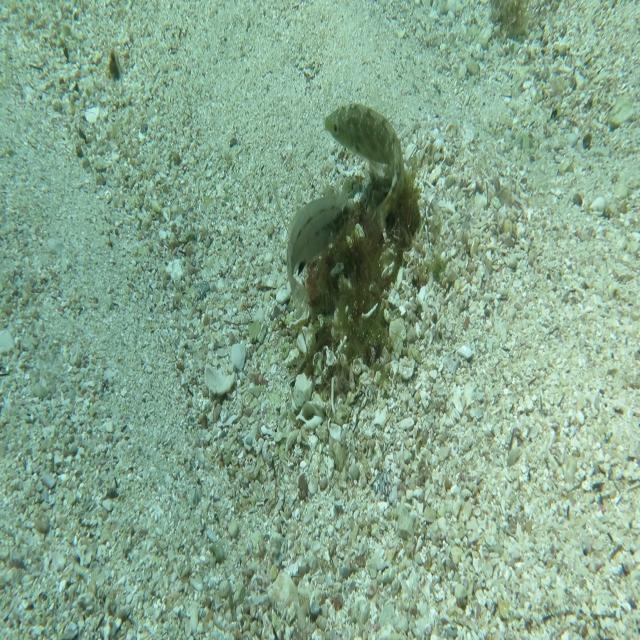SPA: (321, 101, 408, 245)
core_nest: (359, 195, 414, 238)
female: (284, 192, 356, 314)
nest: (303, 158, 426, 386)
